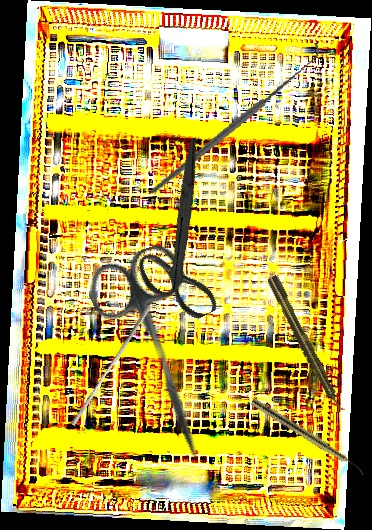Handpiece: (265, 274, 347, 415), (249, 397, 369, 477)
Hook Surgical: (131, 42, 338, 196)
Iris Scissors: (81, 239, 243, 472), (94, 136, 274, 334)
Pusher: (70, 301, 152, 429)
